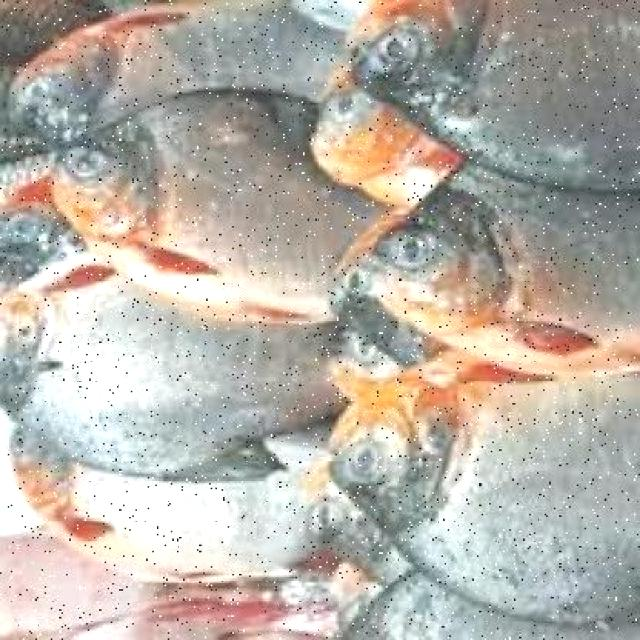ikan-pacu: (326, 364, 640, 604), (53, 90, 375, 310), (378, 166, 640, 366), (348, 0, 640, 147)
